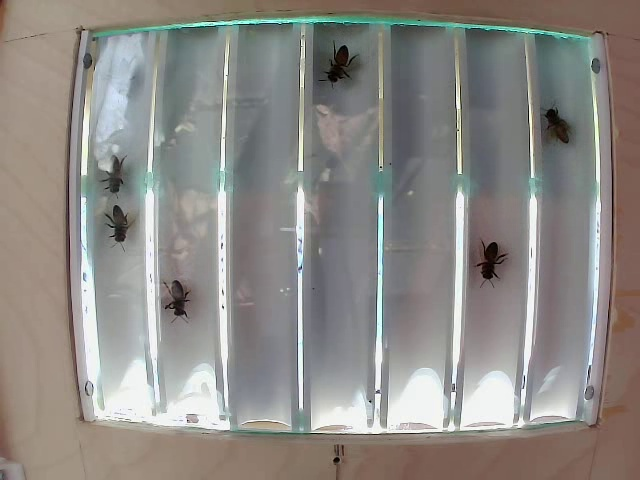bee: (473, 225, 517, 287), (158, 279, 198, 326), (98, 149, 135, 195), (320, 41, 354, 89), (540, 97, 572, 140), (106, 205, 131, 257)
